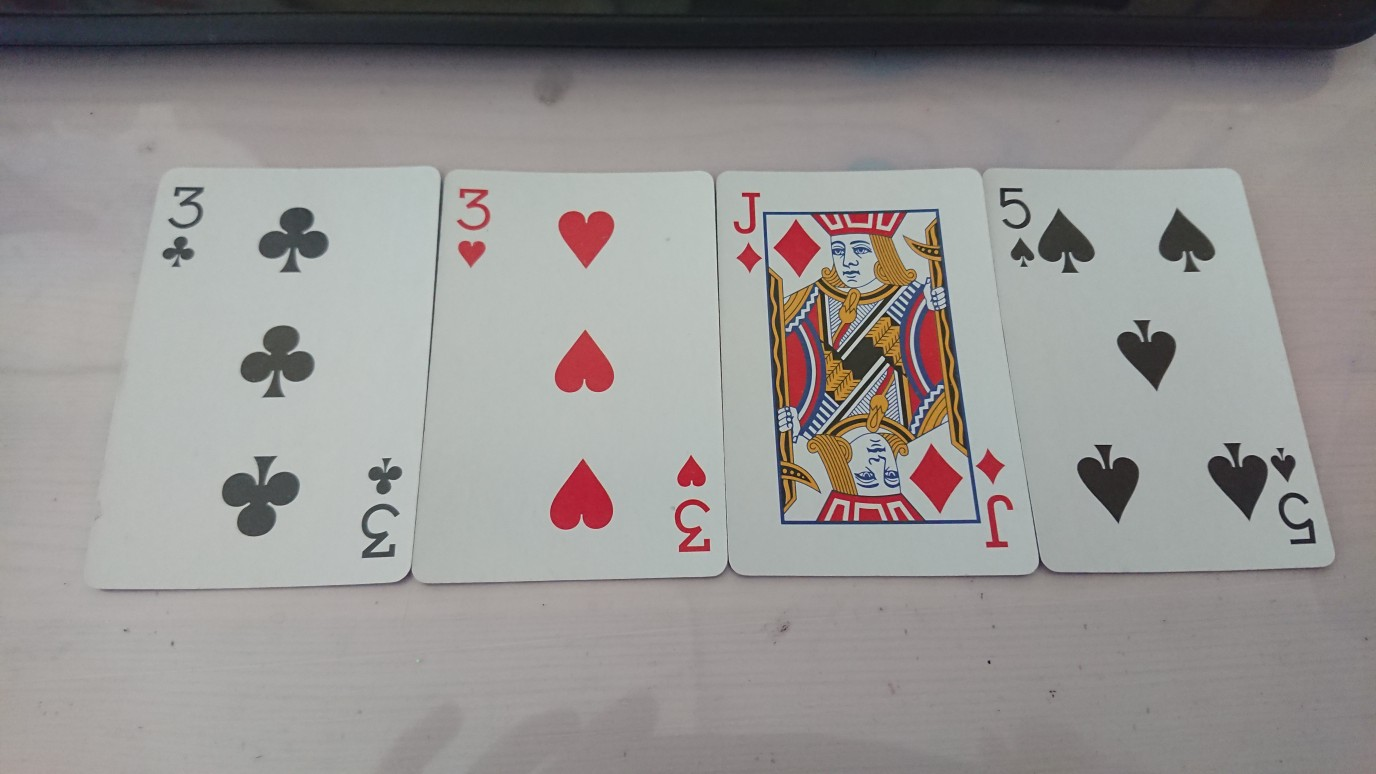3C: (160, 180, 208, 272)
3H: (448, 182, 495, 272)
5S: (995, 182, 1041, 272)
JD: (728, 189, 768, 275)
